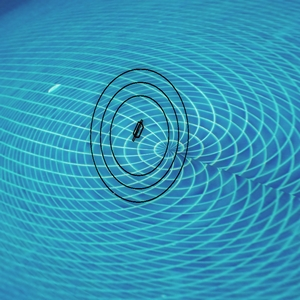submarine: (132, 120, 141, 135)
